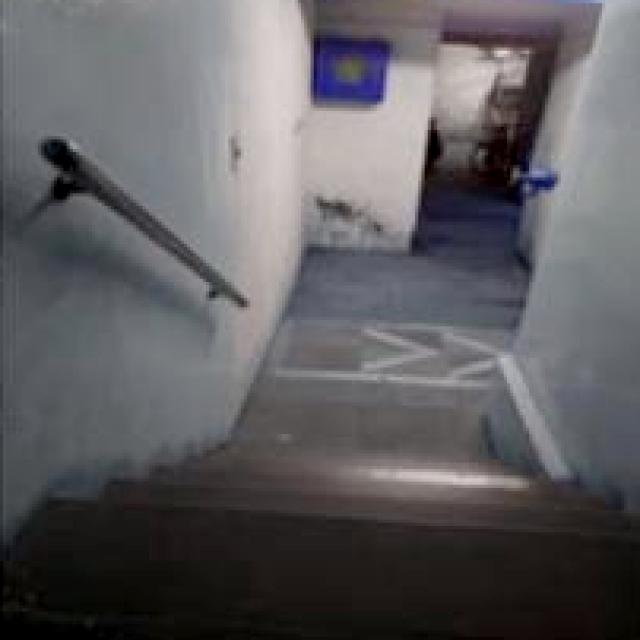downstair: (153, 397, 556, 590)
